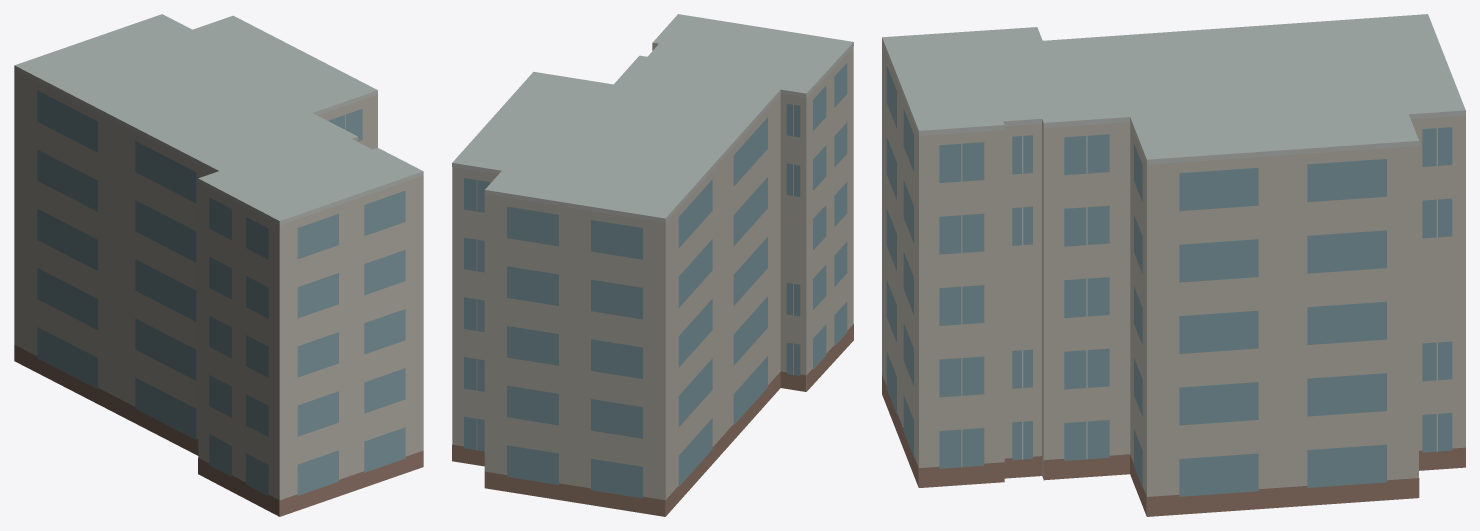
Rendered from survey-upis-32574680.glb.
3 renders of one model, left to right at view 1: azimuth 30°, elevation 25°; view 2: azimuth 150°, elevation 25°; view 3: azimuth 270°, elevation 25°, orthographic. The views are drawn at different scales.
Parts seen in each view (by area): view 1: survey-upis-32574680.tmp; view 2: survey-upis-32574680.tmp; view 3: survey-upis-32574680.tmp.
Part boxes in pixels (x1,y1,x2,y2): survey-upis-32574680.tmp: (14,14,423,516); survey-upis-32574680.tmp: (452,14,853,516); survey-upis-32574680.tmp: (882,14,1465,516).
Bounding box in the file's own units: 14.88 × 17 × 25.19.
